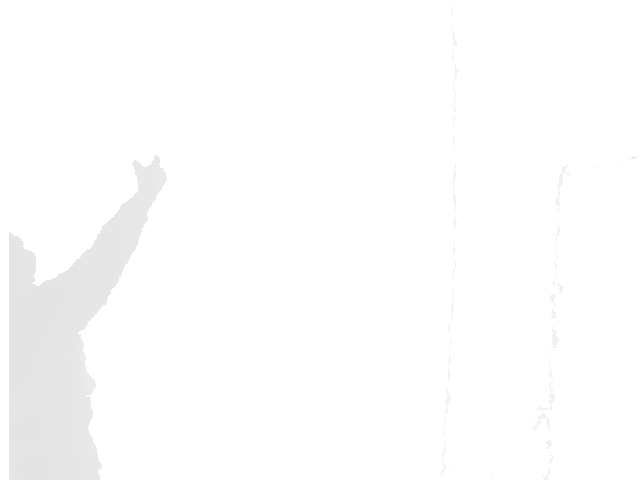hand: (130, 155, 169, 201)
head: (7, 232, 37, 283)
person: (8, 155, 169, 479)
